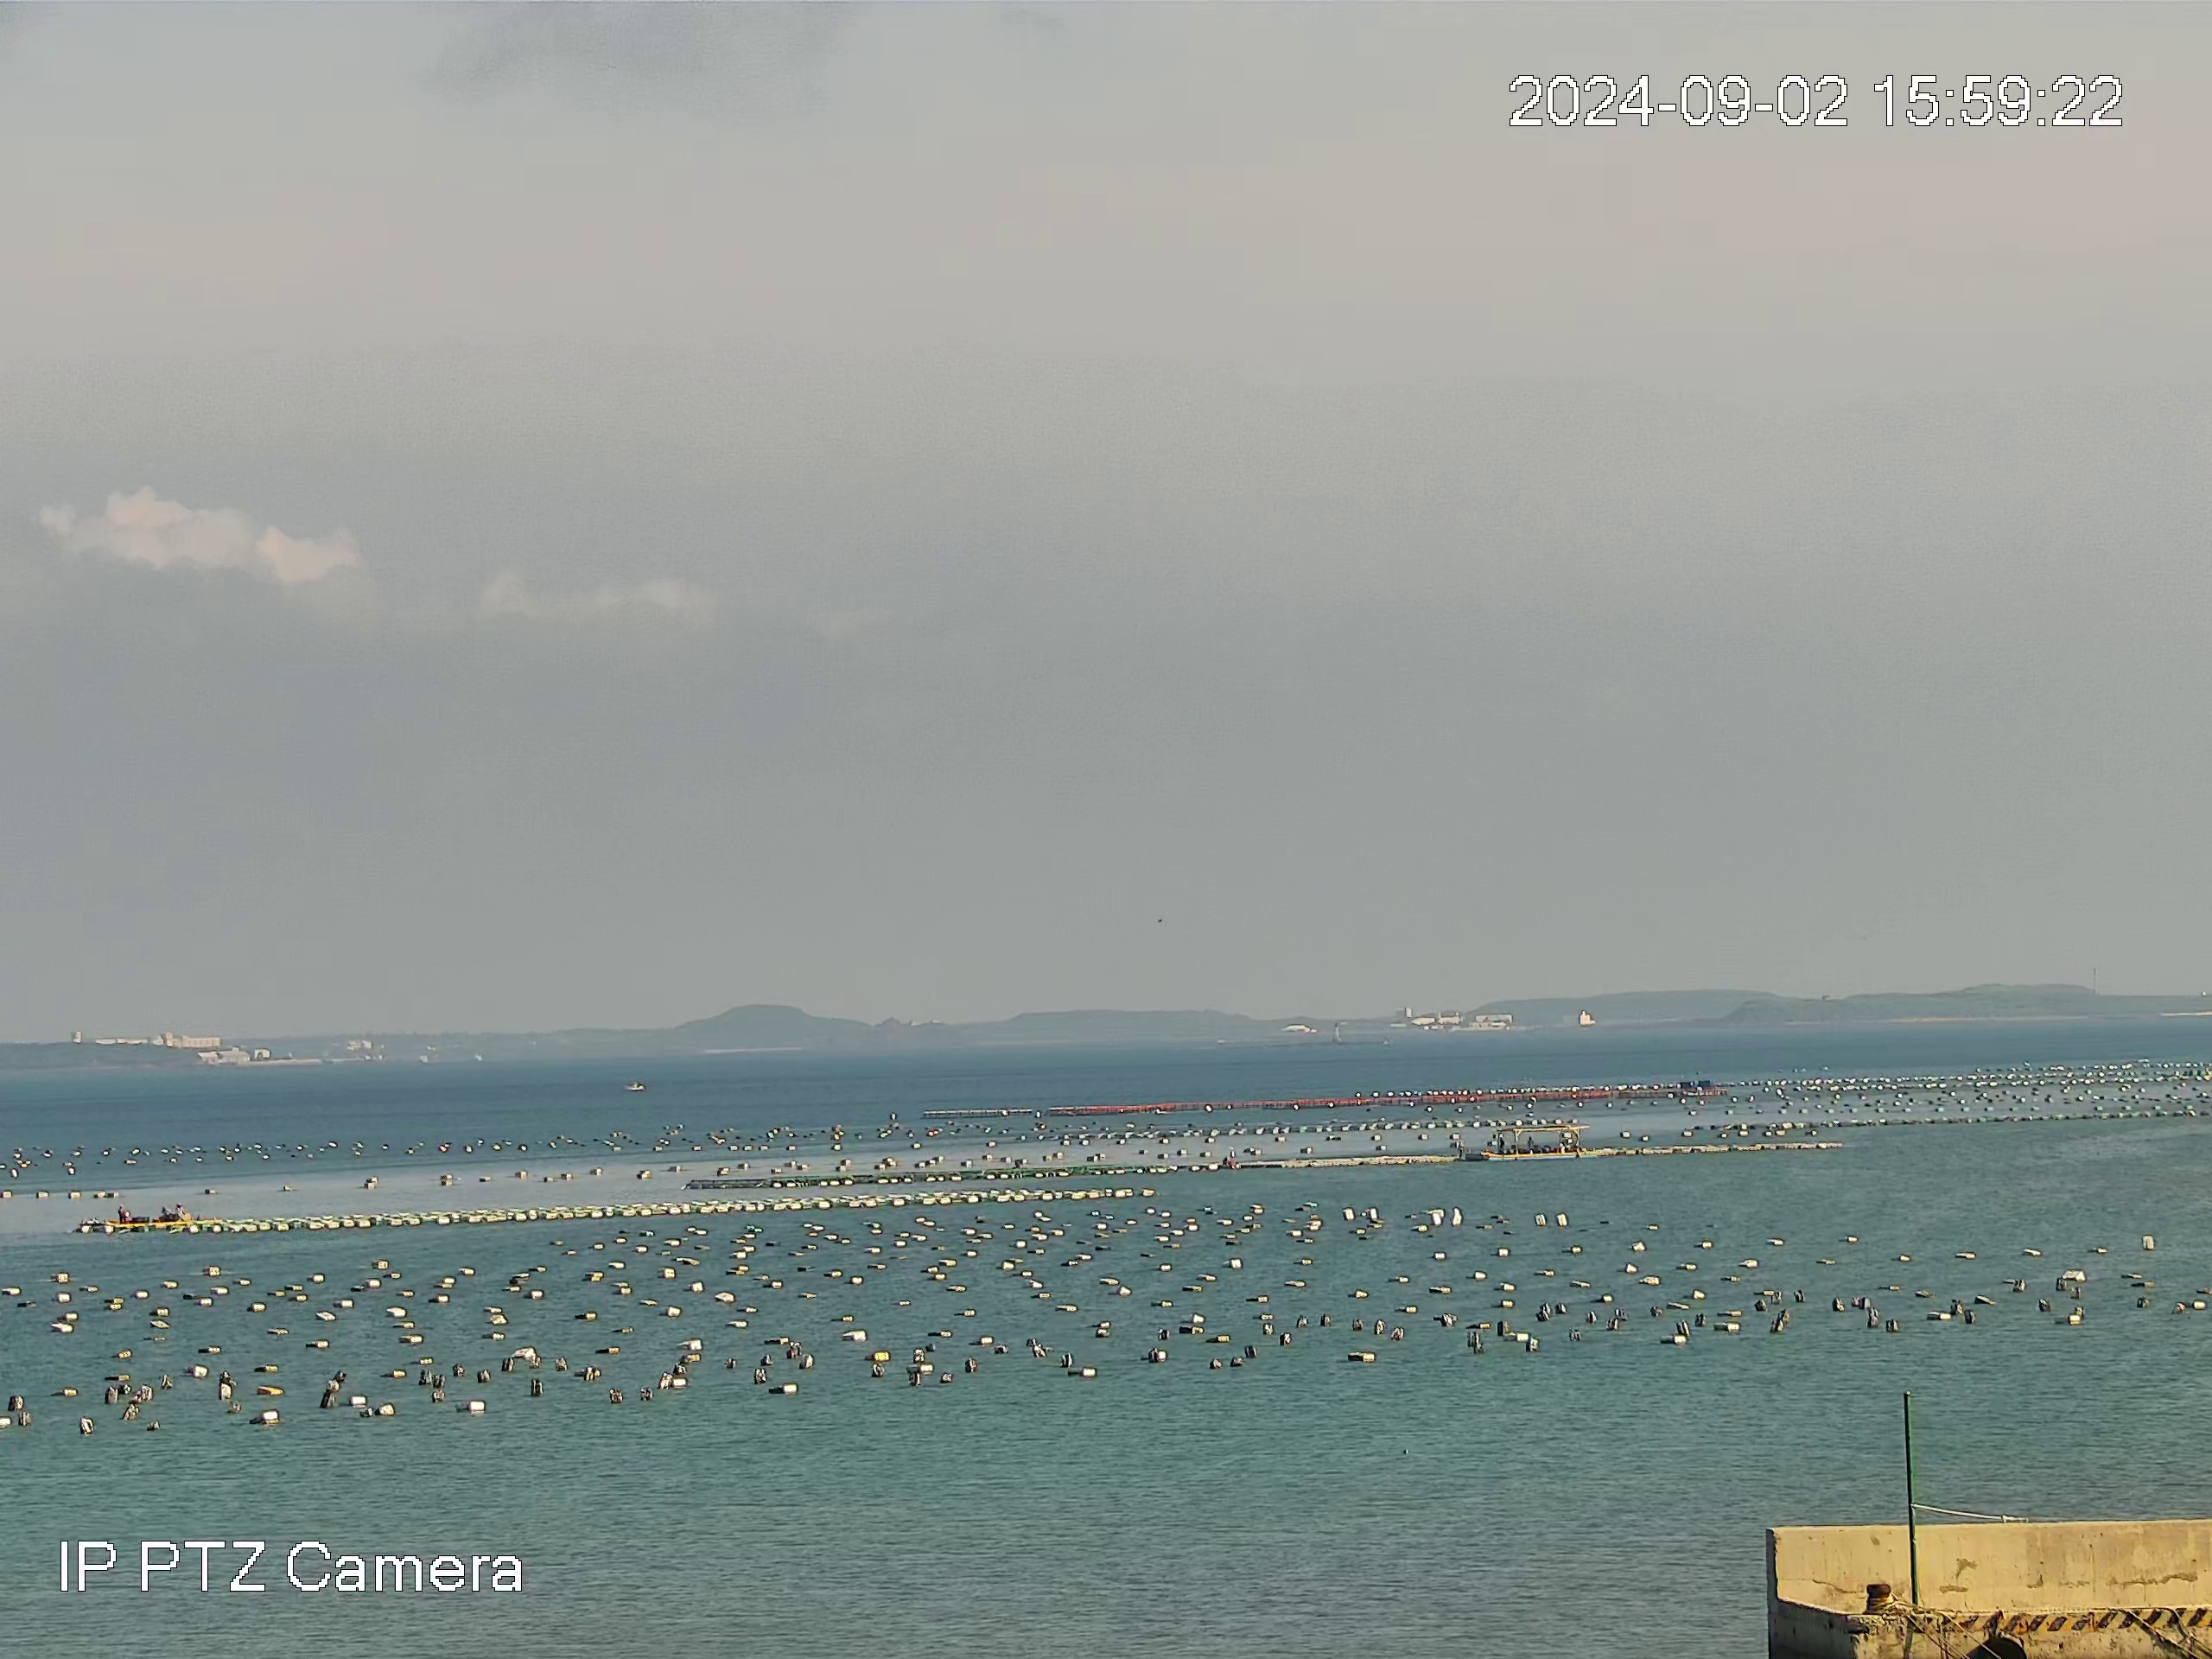boat: (1477, 1124, 1604, 1162), (103, 1201, 225, 1227), (622, 1079, 648, 1093)
